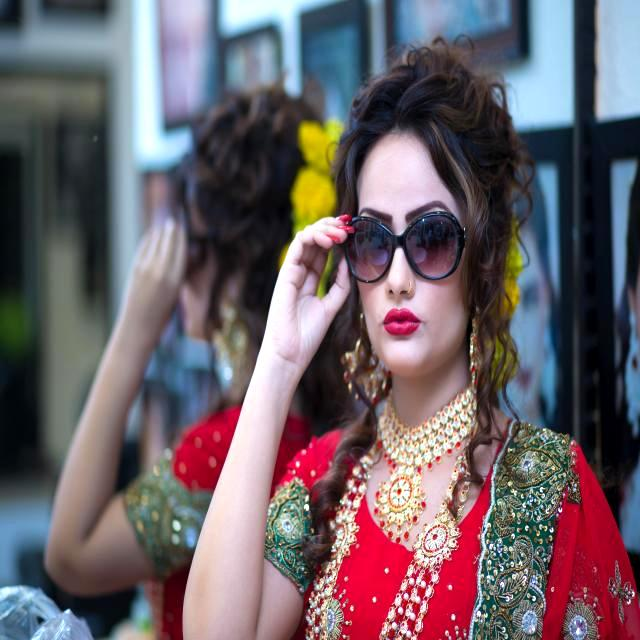no_head_wear: (333, 38, 535, 440)
person: (185, 42, 640, 640)
